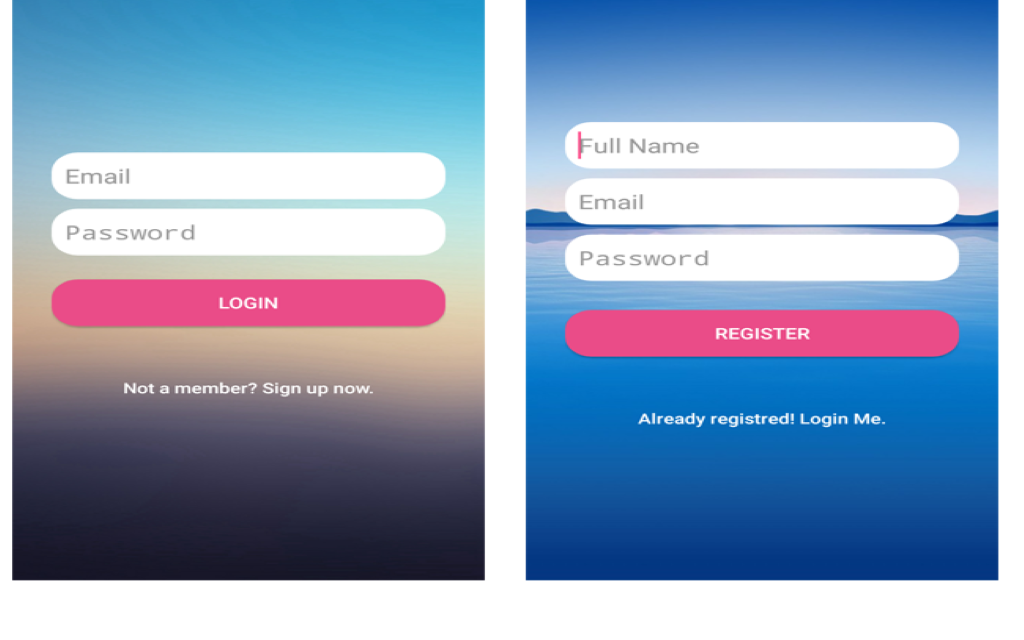button: (567, 309, 961, 356), (53, 280, 445, 327)
label_Login: (216, 292, 280, 314)
label_email: (575, 190, 652, 214), (64, 164, 133, 189)
label_password: (578, 245, 716, 273), (64, 219, 198, 244)
textbox: (564, 232, 961, 282), (51, 150, 446, 200), (51, 209, 443, 257), (565, 121, 960, 168), (566, 179, 961, 224)
textbox_Email: (50, 150, 448, 200)
textbox_Password: (50, 208, 447, 260)
